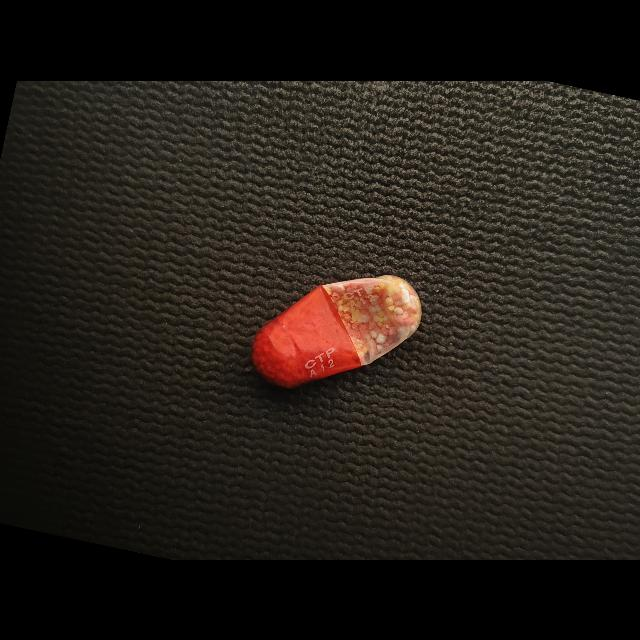Defective Capsule: (252, 274, 422, 387)
